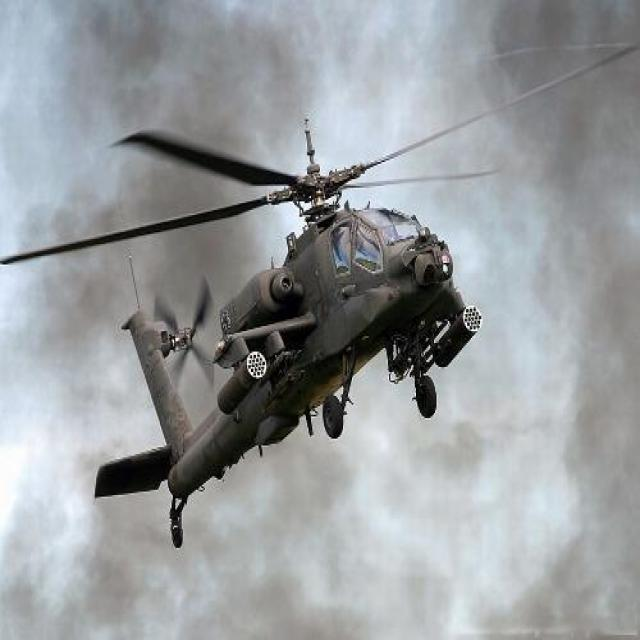MIL_HELO: (0, 91, 531, 541)
